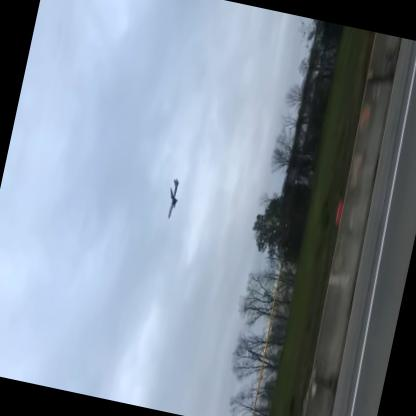plane: (159, 168, 191, 227)
